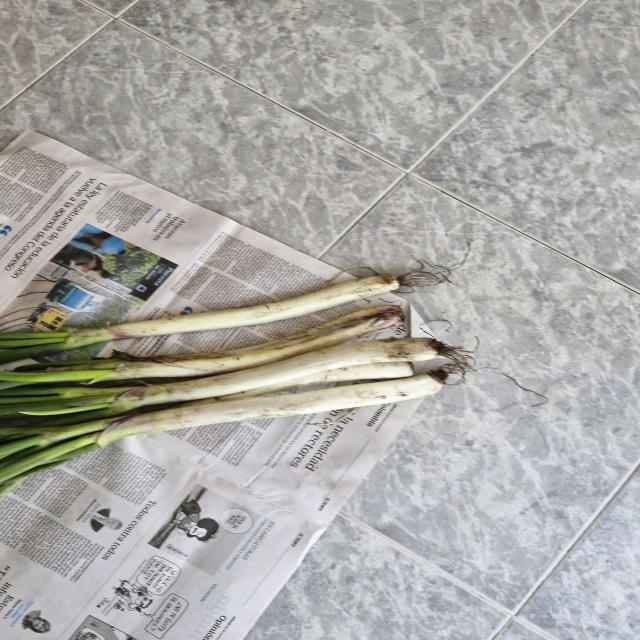green_onion: (0, 370, 460, 486), (0, 266, 406, 376)
